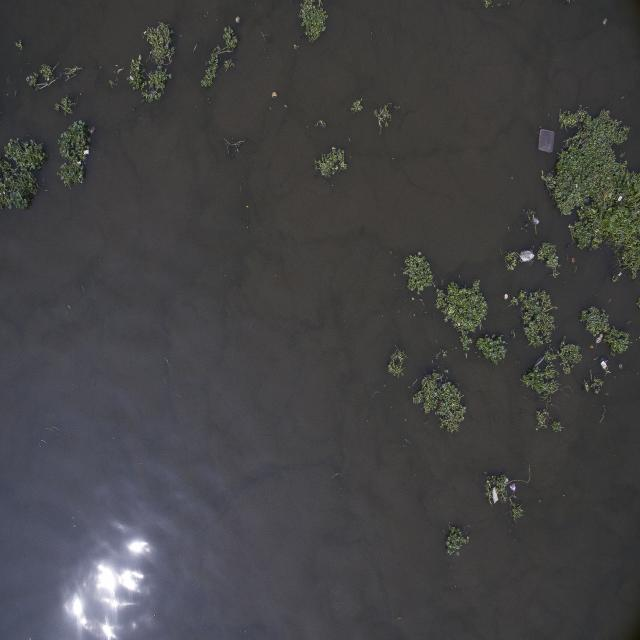debris: (536, 127, 556, 152), (520, 248, 535, 262), (508, 479, 519, 495), (491, 486, 499, 504), (594, 330, 604, 343), (600, 13, 608, 26), (234, 16, 243, 27), (271, 90, 277, 100), (617, 194, 623, 204), (83, 148, 90, 156), (89, 126, 96, 134), (129, 73, 135, 81), (229, 55, 235, 63), (502, 294, 510, 300), (584, 197, 590, 204), (77, 160, 82, 166)
plastic: (598, 358, 611, 368), (530, 214, 542, 224), (319, 118, 328, 130), (131, 106, 138, 115), (565, 243, 572, 251), (509, 329, 515, 338), (18, 66, 23, 75), (618, 270, 623, 278), (114, 128, 120, 134)
